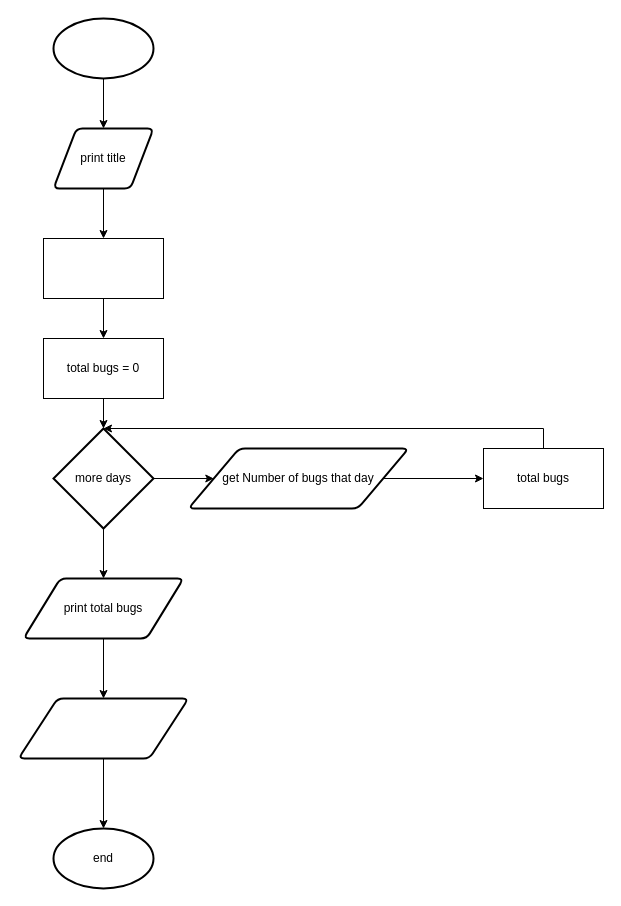
The diagram is 621 pixels wide and 906 high, and some of its shapes have lost their labels. Each missing label, with the centre of its shape:
Max days = 5: the point at 103,268
print program complete: the point at 103,728
start: the point at 103,48
